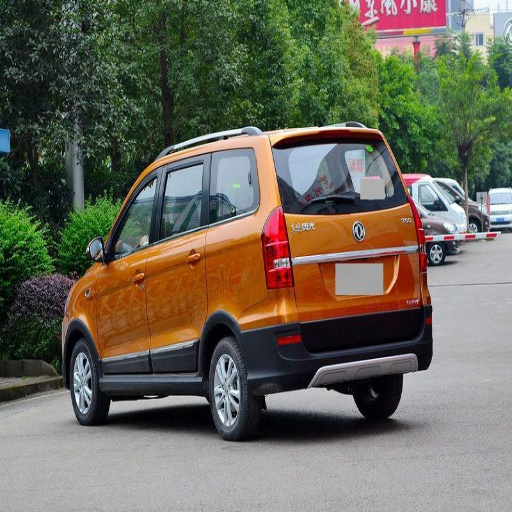back_bumper: (246, 292, 431, 385)
back_glass: (276, 138, 401, 212)
back_left_door: (148, 147, 249, 372)
trunk: (270, 206, 418, 321)
